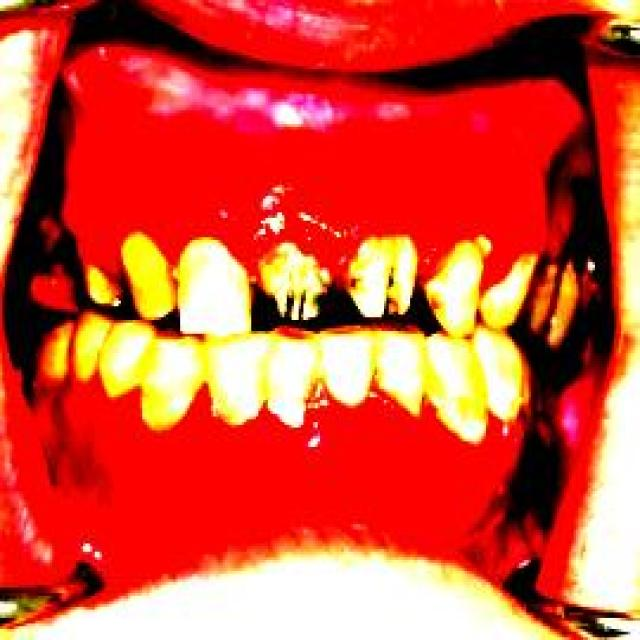caries: (350, 253, 410, 324), (268, 268, 323, 329)
